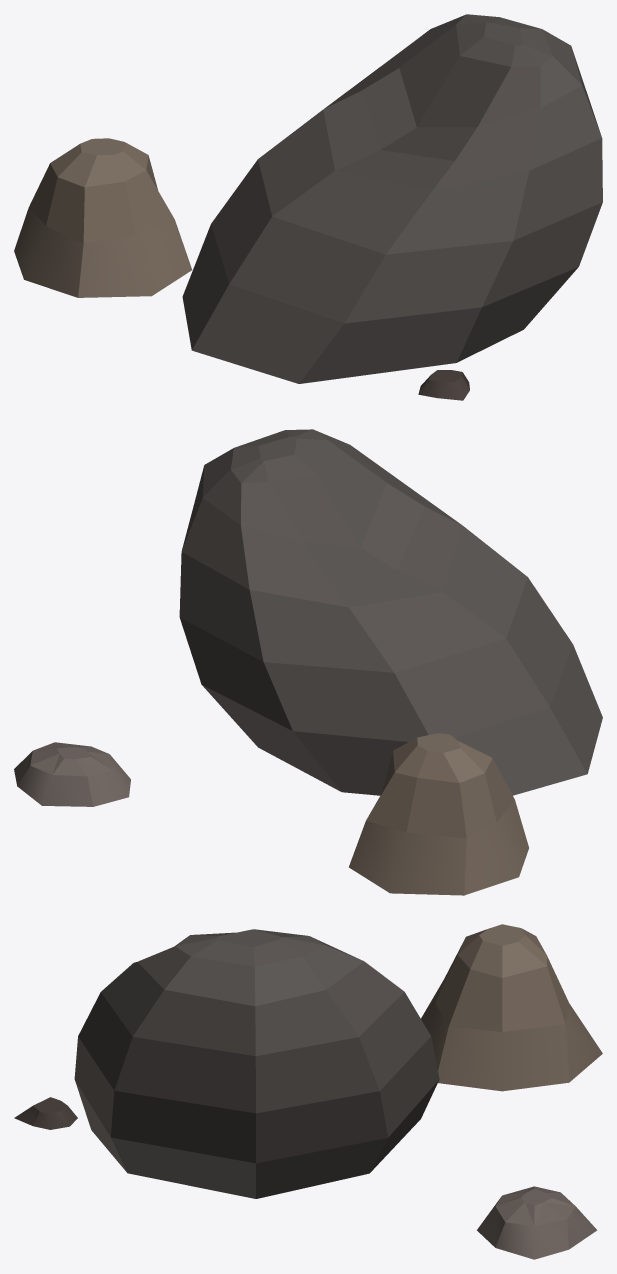
File: Rock #3.FBX
The picture shows the model from 3 angles, top to bottom: view 1: azimuth 30°, elevation 25°; view 2: azimuth 150°, elevation 25°; view 3: azimuth 270°, elevation 25°; orthographic projection. The views are drawn at different scales.
Visible parts, largest first — view 1: Box001, Box004, Box003; view 2: Box001, Box004, Box002; view 3: Box001, Box004, Box002, Box003.
Boxes of the visible parts, box(x1,y1,x2,y2) form: Box001: box(182, 14, 602, 383); Box004: box(14, 138, 191, 297); Box003: box(418, 370, 469, 400); Box001: box(179, 429, 602, 795); Box004: box(349, 733, 528, 895); Box002: box(14, 742, 130, 806); Box001: box(74, 929, 439, 1198); Box004: box(421, 924, 602, 1091); Box002: box(477, 1186, 597, 1259); Box003: box(14, 1097, 77, 1129).
Bounding box in the file's own units: 52.22 × 25.49 × 52.74.
